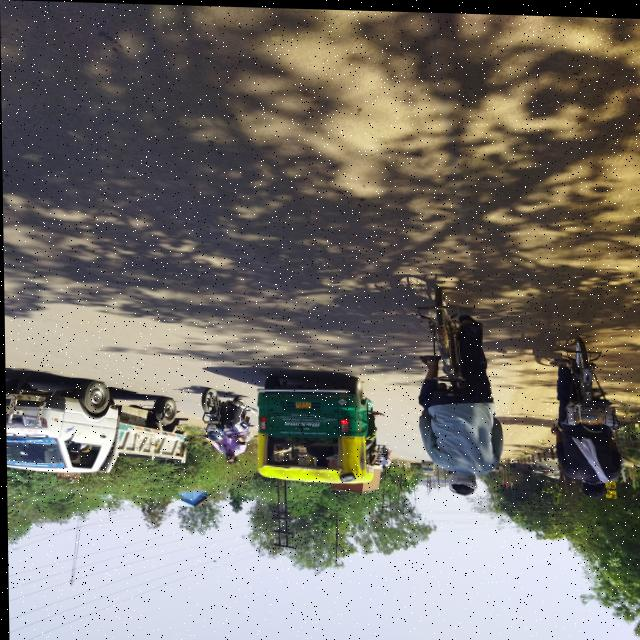plate: (294, 400, 310, 407), (201, 418, 218, 423), (376, 453, 382, 454)
